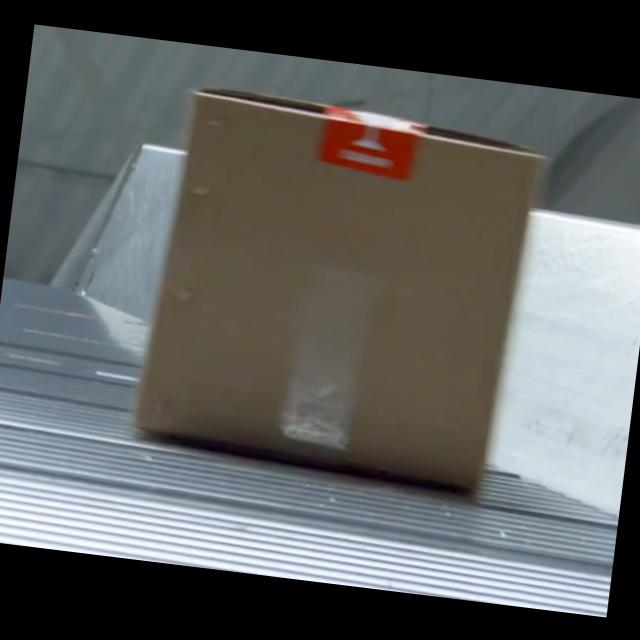box: (123, 84, 542, 497)
